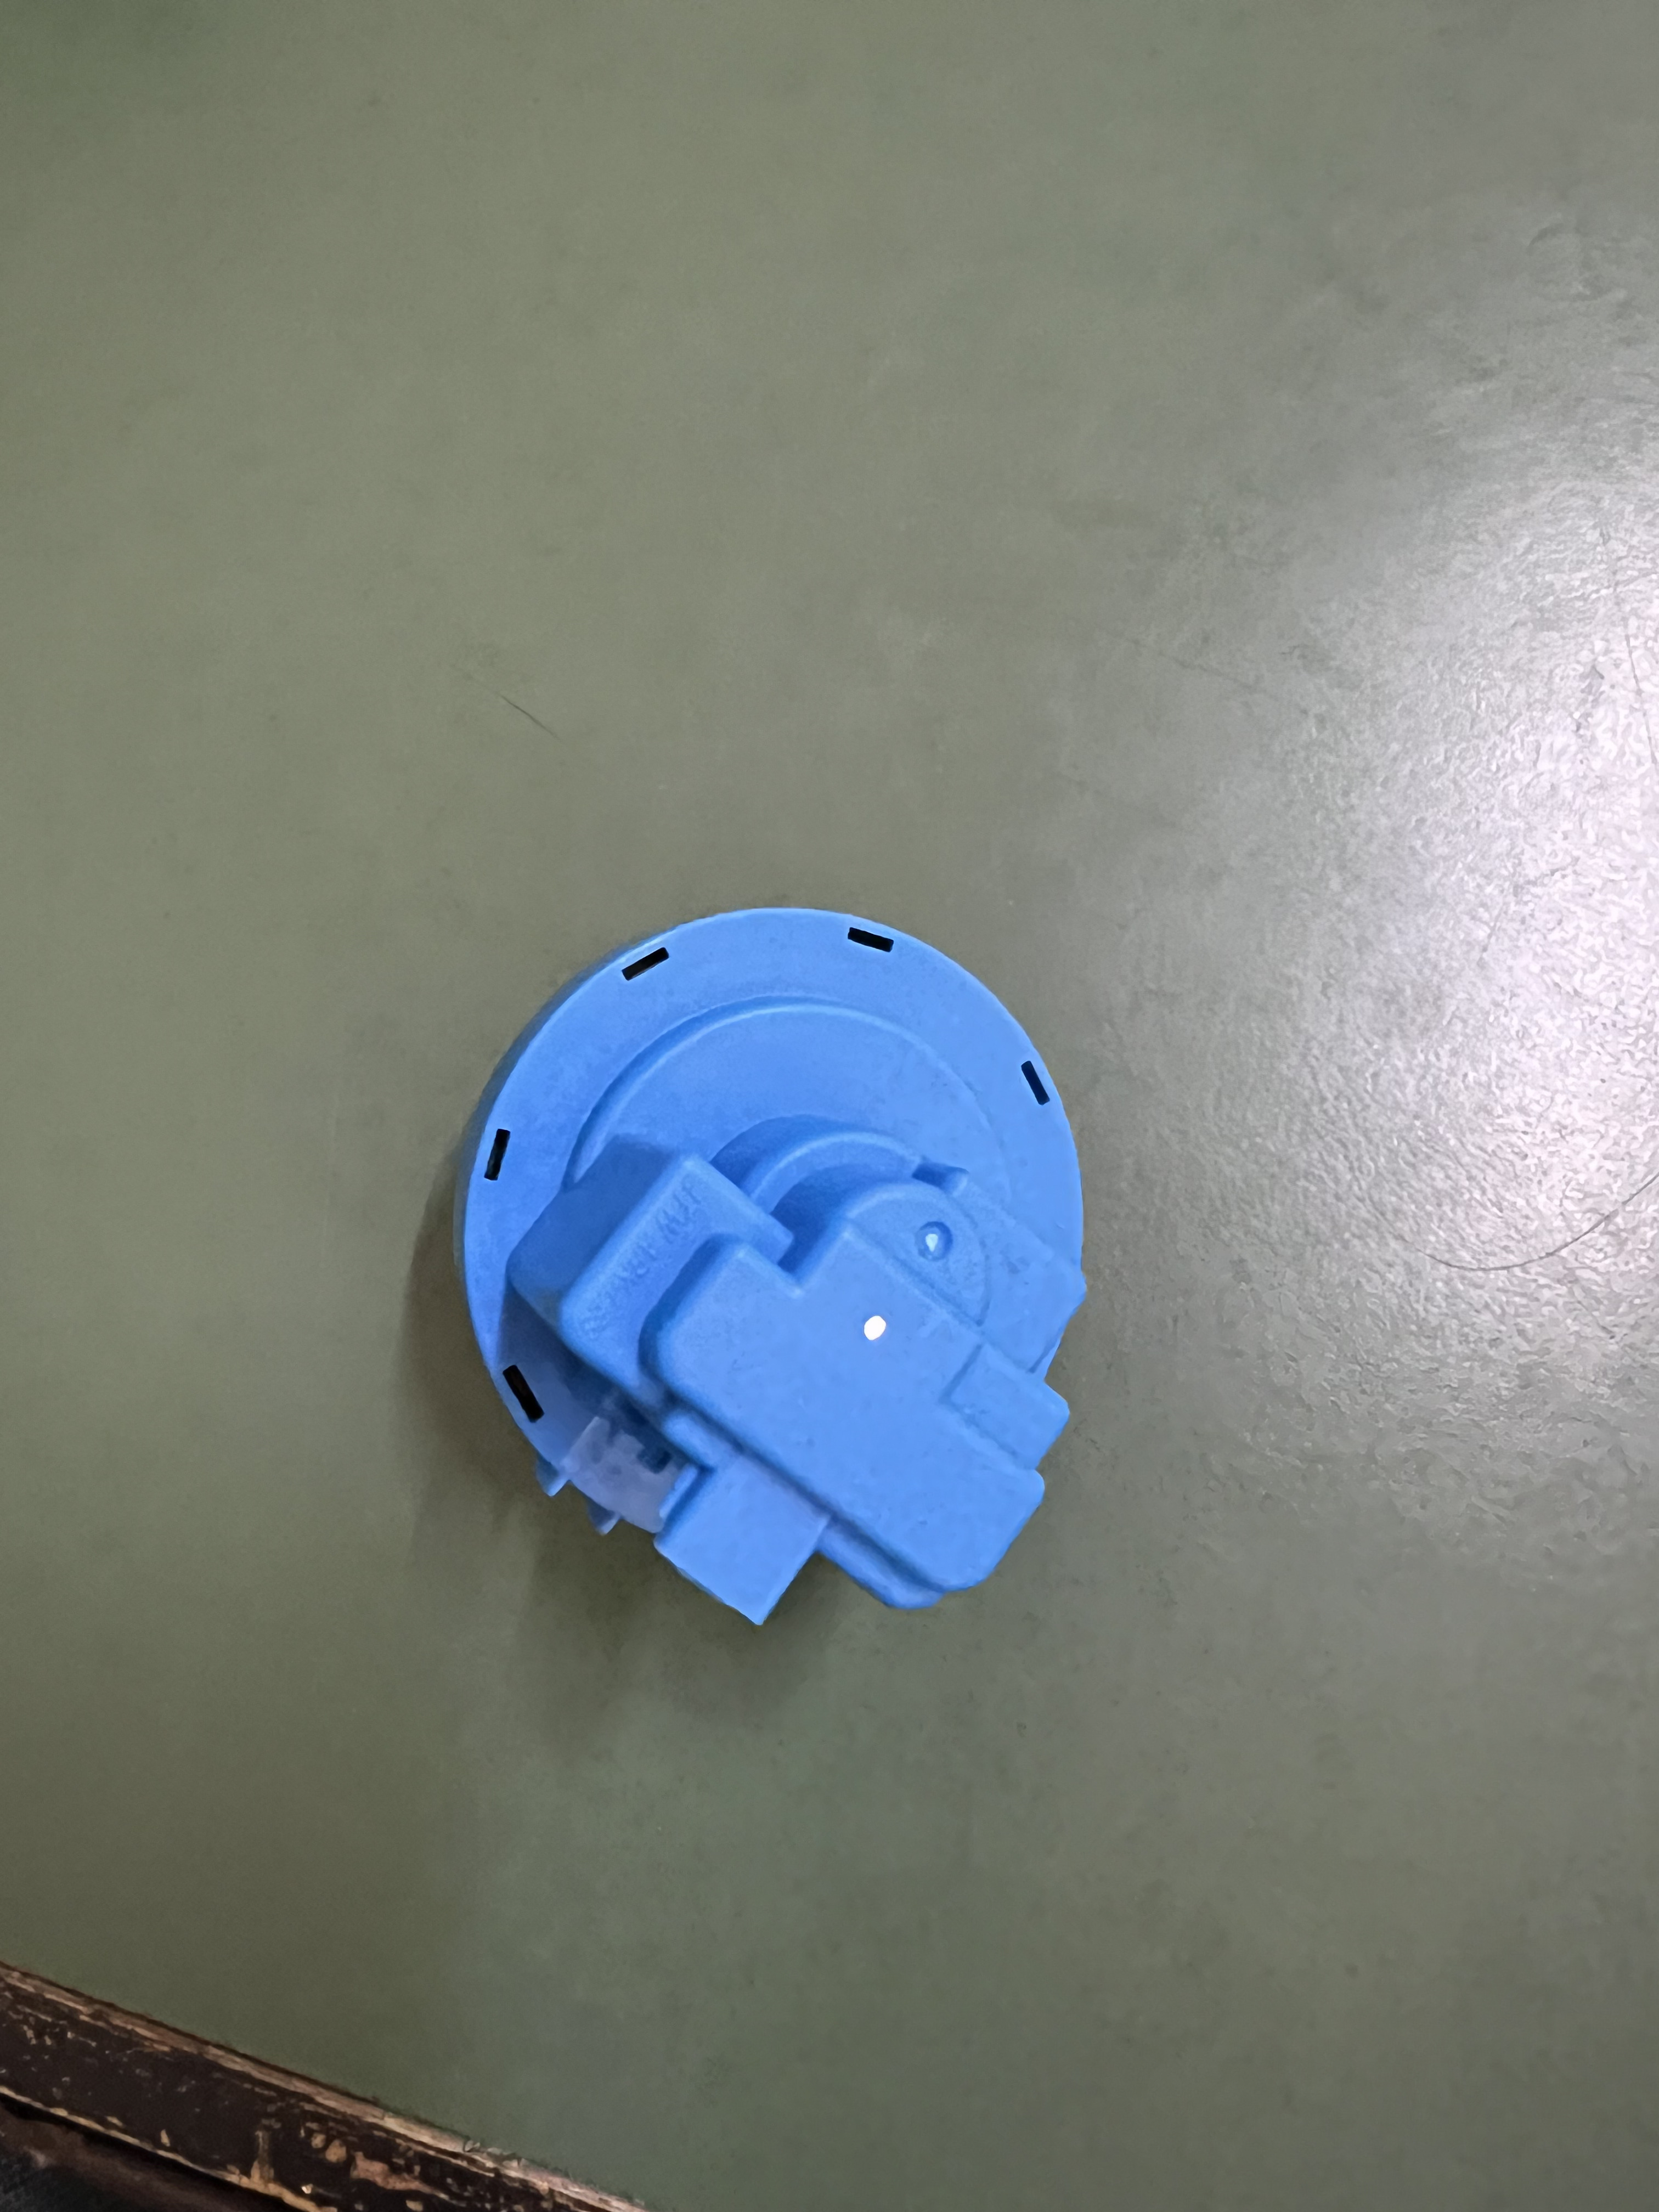voltas_beko_pressure_switch: (418, 836, 1108, 1653)
